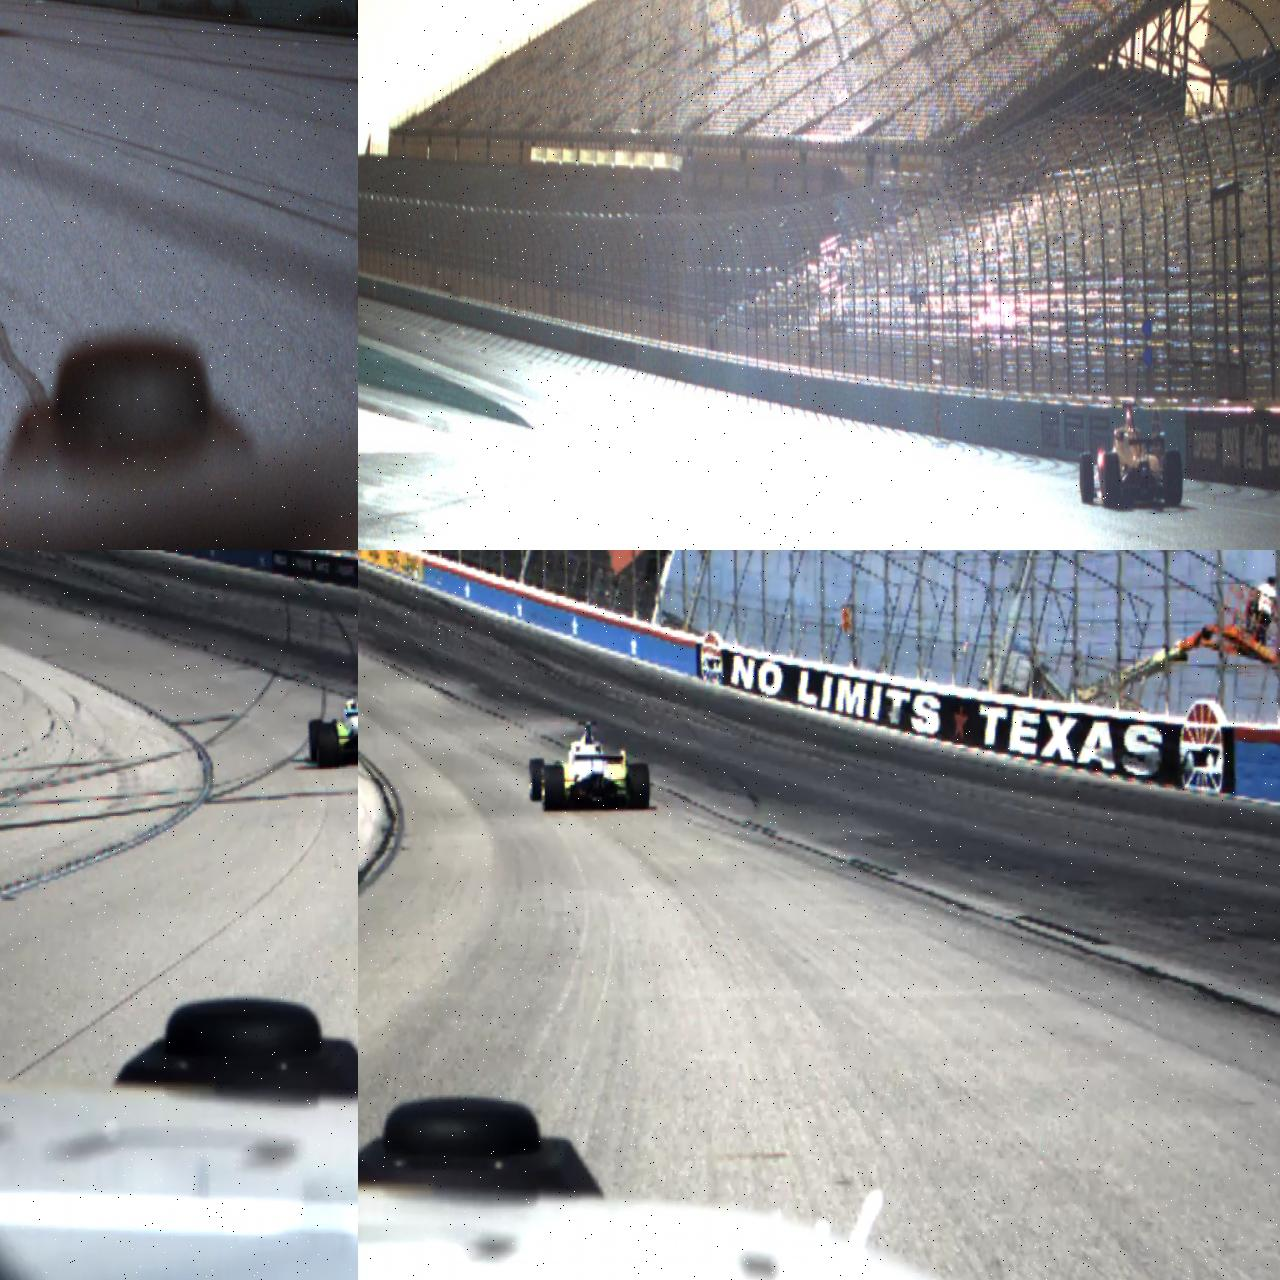AV: (1076, 399, 1184, 509), (527, 719, 651, 812), (308, 673, 358, 769)
Wheel: (1162, 448, 1183, 508), (1101, 452, 1121, 508), (543, 765, 565, 812), (628, 763, 651, 808), (318, 723, 339, 767), (1080, 451, 1095, 504), (529, 758, 545, 802), (309, 719, 324, 762)
